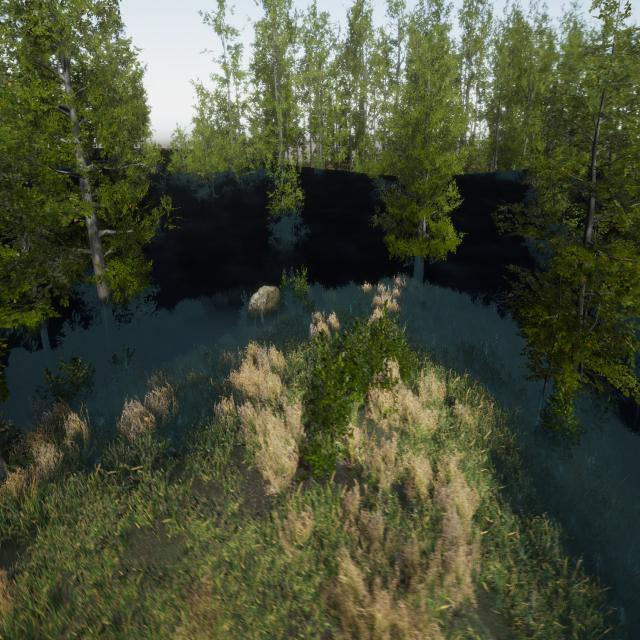Human: (304, 312, 322, 352)
